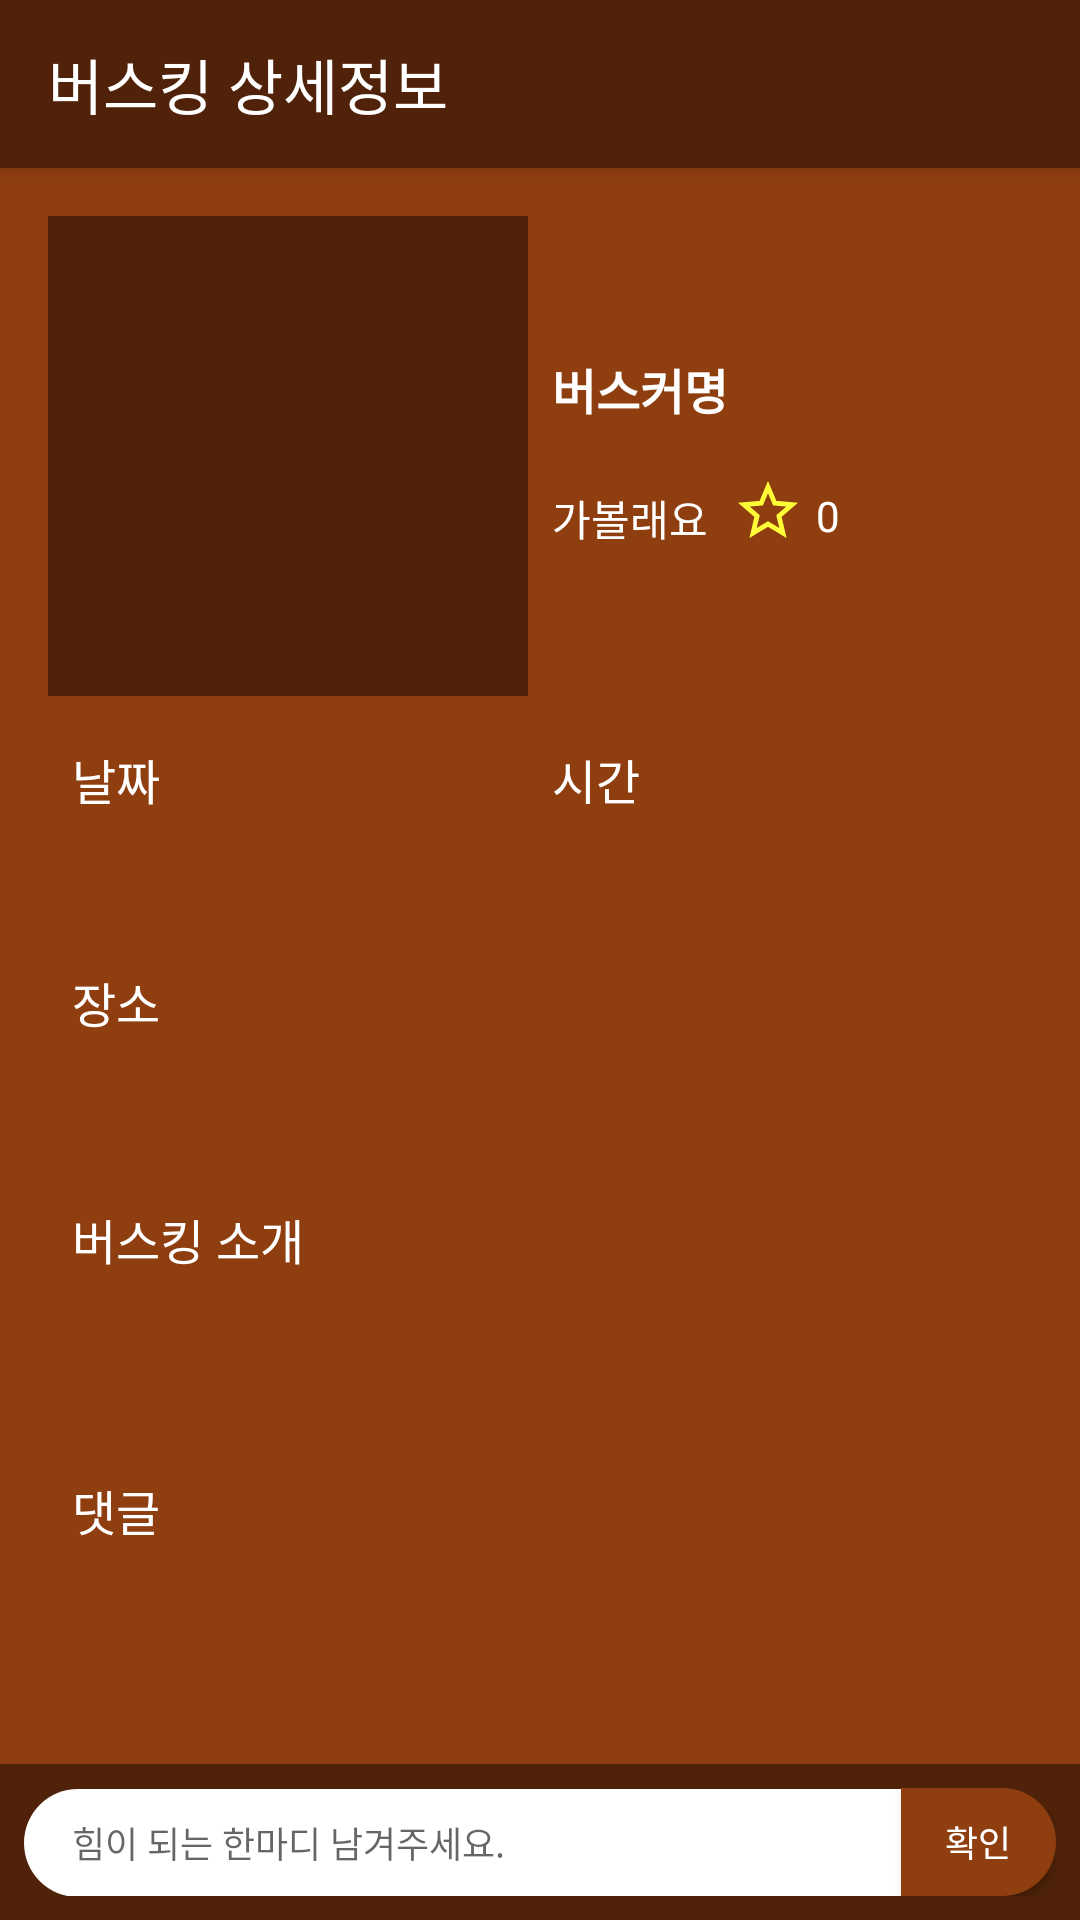

Icons on this 1080px x 1920px Android screen, each with its box as (x1, y1, x2, y2):
star border: (738, 481, 798, 538)
